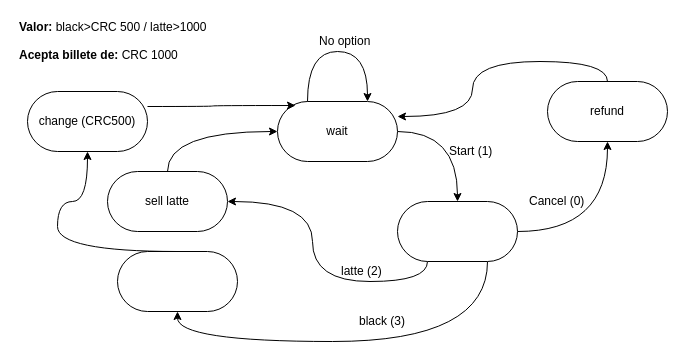
Image size: 685x359. Some labels were removed from this diagram. Each missing label, with the centre of its shape:
select: the point at 457,231
sell black: the point at 177,281
